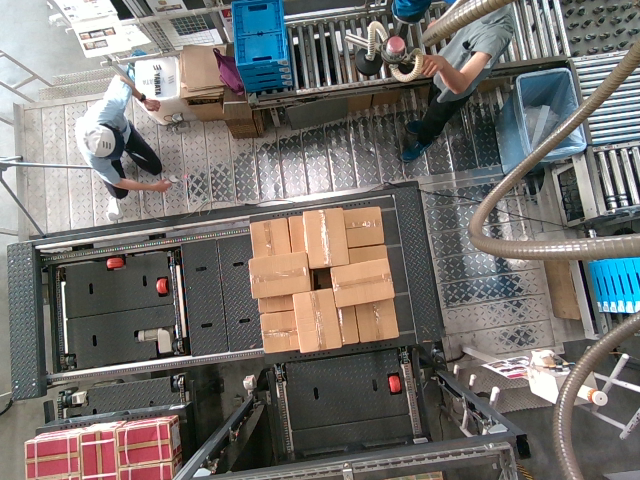box: (303, 206, 349, 268), (292, 289, 338, 351), (247, 253, 310, 293), (327, 262, 390, 302)
